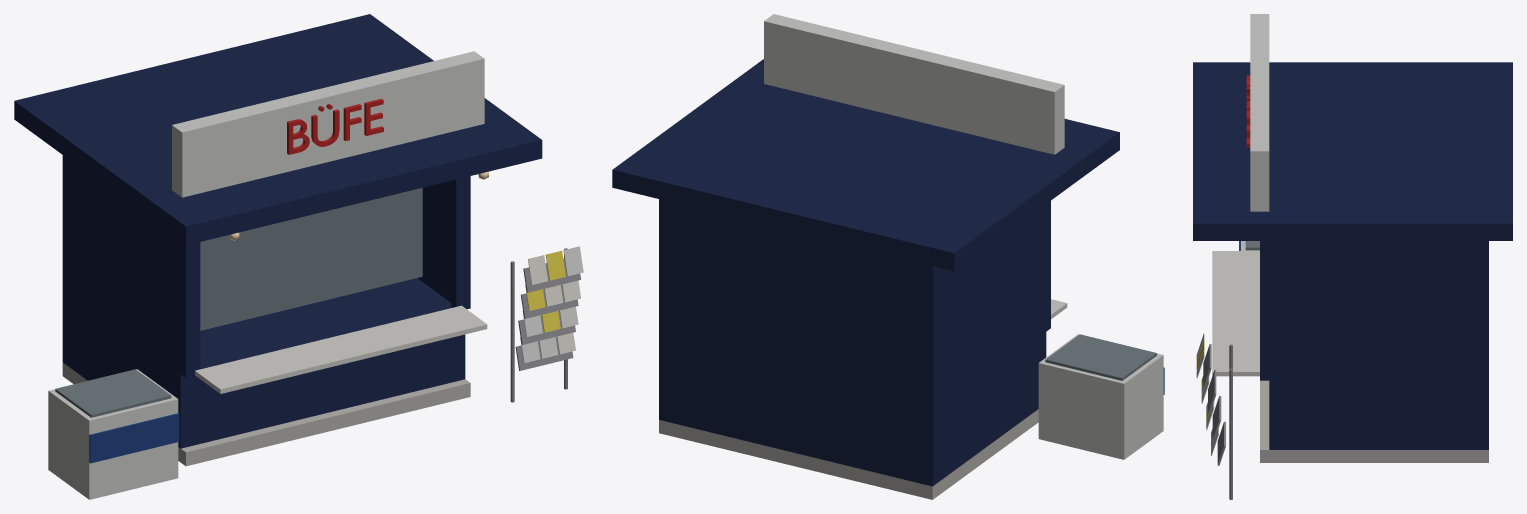
Rendered from bufe.glb.
The picture shows the model from 3 angles, left to right: view 1: azimuth 30°, elevation 25°; view 2: azimuth 150°, elevation 25°; view 3: azimuth 270°, elevation 25°; orthographic projection. The views are drawn at different scales.
Parts seen in each view (by area): view 1: Bufe; view 2: Bufe; view 3: Bufe.
Part boxes in pixels (x1,y1,x2,y2): Bufe: (14, 14, 583, 499); Bufe: (612, 14, 1164, 499); Bufe: (1193, 14, 1512, 499).
Bounding box in the file's own units: 5.32 × 3.65 × 3.35.
